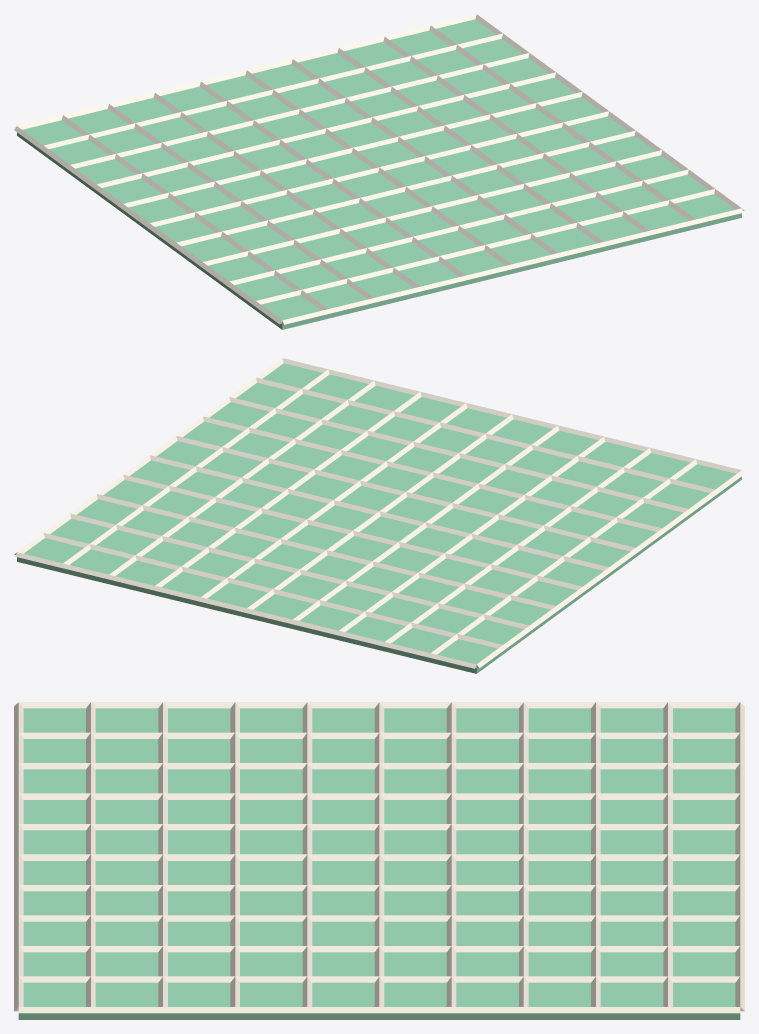
Rendered from area_grid.glb.
3 views of the same model, one above another, from view 1: azimuth 30°, elevation 25°; view 2: azimuth 150°, elevation 25°; view 3: azimuth 270°, elevation 25° (orthographic). The views are drawn at different scales.
Parts seen in each view (by area): view 1: grid; view 2: grid; view 3: grid.
Part boxes in pixels (left/top/right/bottom): grid: left=14, top=14, right=744, bottom=329; grid: left=14, top=358, right=744, bottom=673; grid: left=14, top=702, right=744, bottom=1019.
Size of the model in its own units: 0.152 by 0.003 by 0.152.
